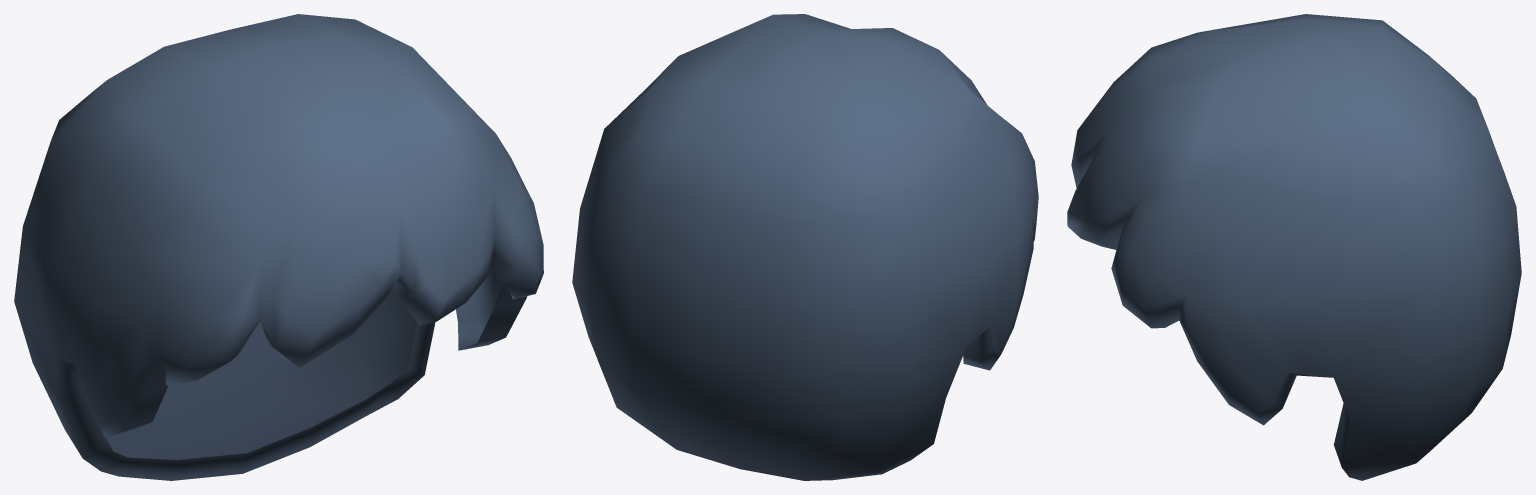
The model's file is Hair_1.fbx.
3 views of the same model, side by side, from view 1: azimuth 30°, elevation 25°; view 2: azimuth 150°, elevation 25°; view 3: azimuth 270°, elevation 25° (orthographic). The views are drawn at different scales.
Visible parts, largest first — view 1: Hair_1; view 2: Hair_1; view 3: Hair_1.
Part boxes in pixels (x1,y1,x2,y2): Hair_1: (14, 14, 543, 480); Hair_1: (572, 14, 1038, 480); Hair_1: (1067, 14, 1521, 480).
Size of the model in its own units: 53.96 by 53.78 by 54.21.
